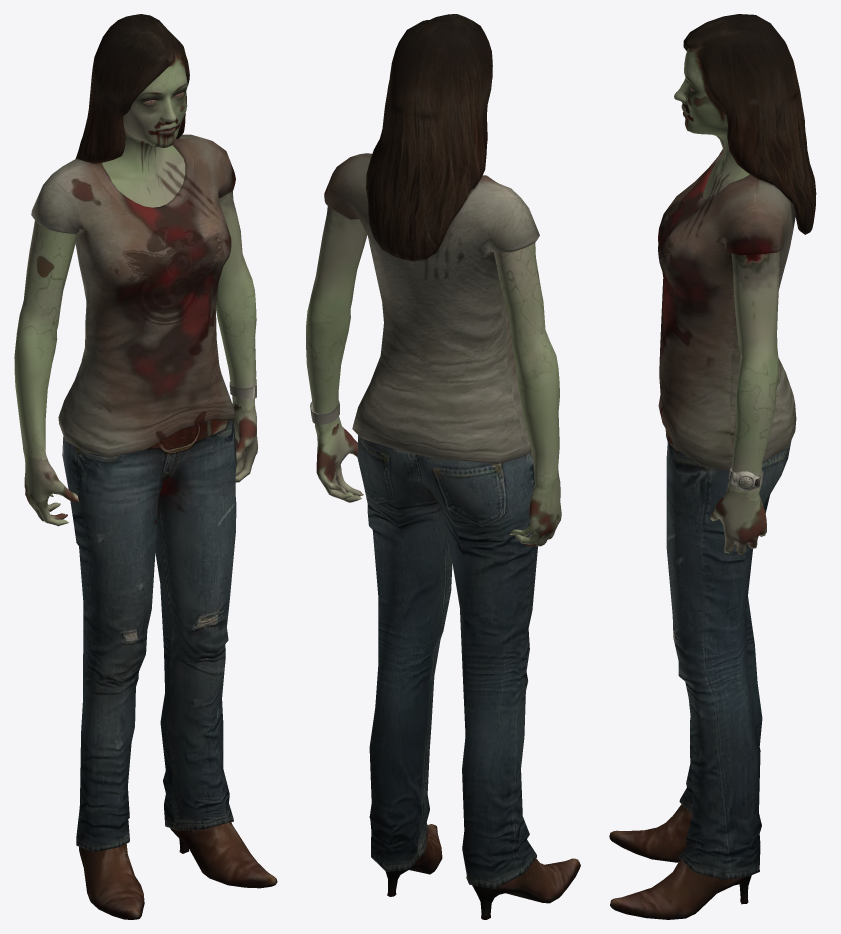
The model's file is woman.glb.
3 views of the same model, side by side, from view 1: azimuth 30°, elevation 25°; view 2: azimuth 150°, elevation 25°; view 3: azimuth 270°, elevation 25° (orthographic). The views are drawn at different scales.
Parts seen in each view (by area): view 1: woman; view 2: woman; view 3: woman.
Part boxes in pixels (<box>): woman: <box>14,14,277,919</box>; woman: <box>306,14,580,919</box>; woman: <box>609,14,816,919</box>.
Size of the model in its own units: 0.5108 by 1.74 by 0.3966.
Materials: 3 (3 with a texture image).
